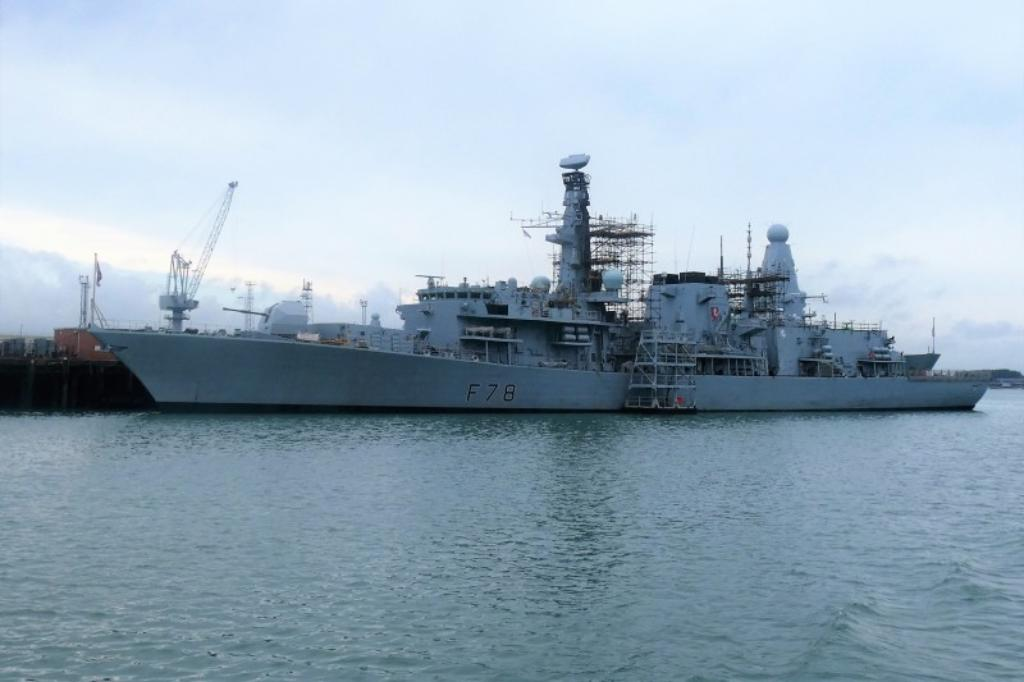Warship: (84, 151, 998, 424)
